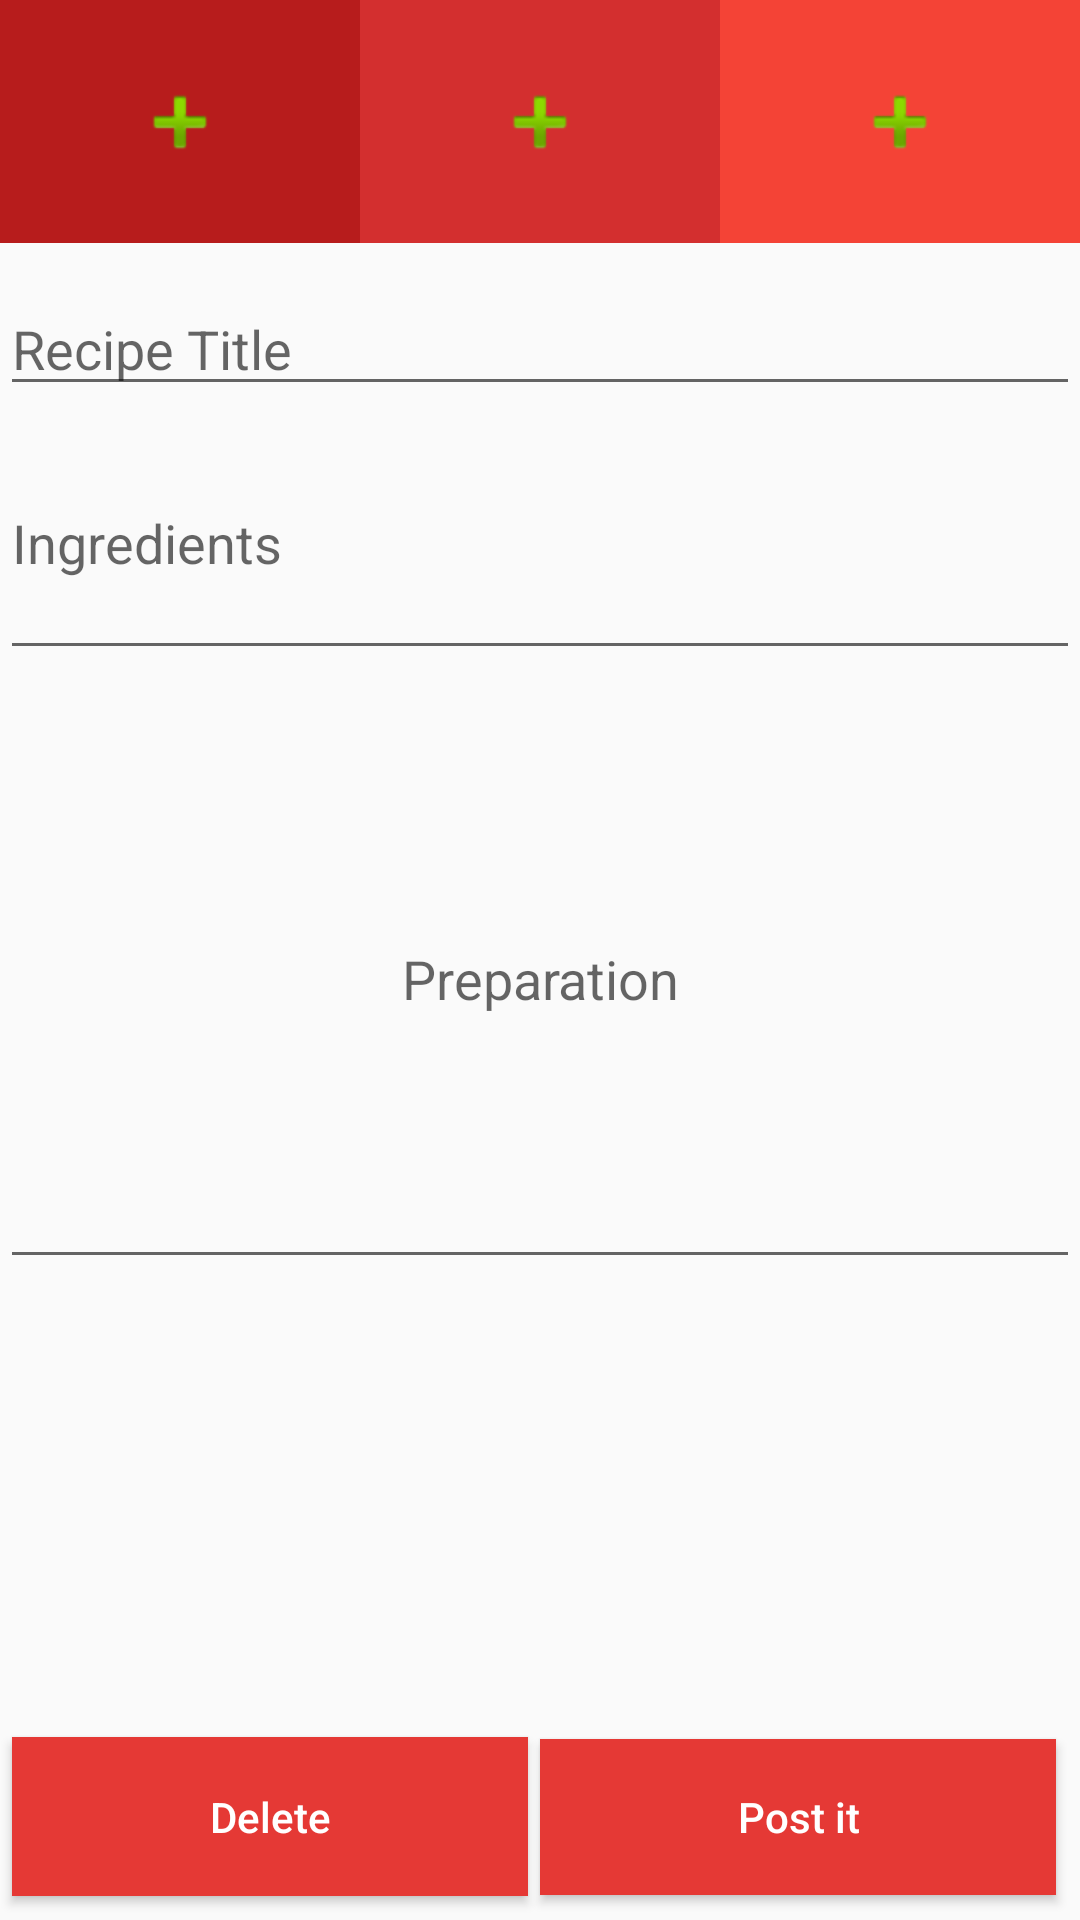

Icons on this 1080w x 1920h Android screen, each with the point to tap as (x=x, y=y):
add: (x=180, y=121), (x=540, y=121), (x=900, y=121)
